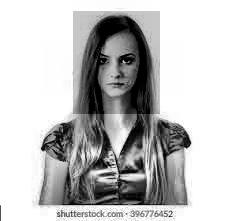sad: (73, 12, 160, 115)
